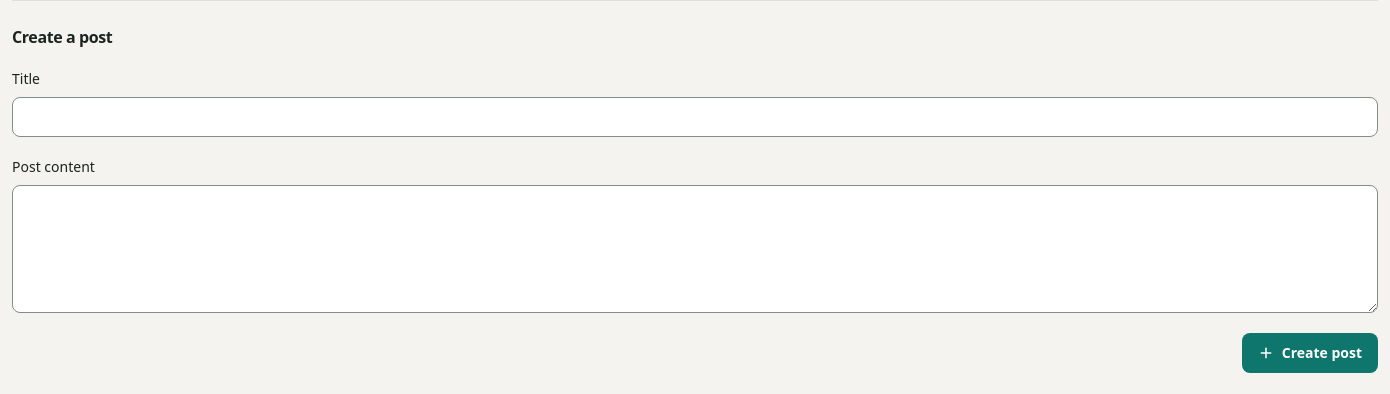
Test case: CreatePostSection › shows success feedback and clears the form after creating a post
Type "Feedback post" into the field labelled "Title" at (695, 117), box [12,97,1378,137]
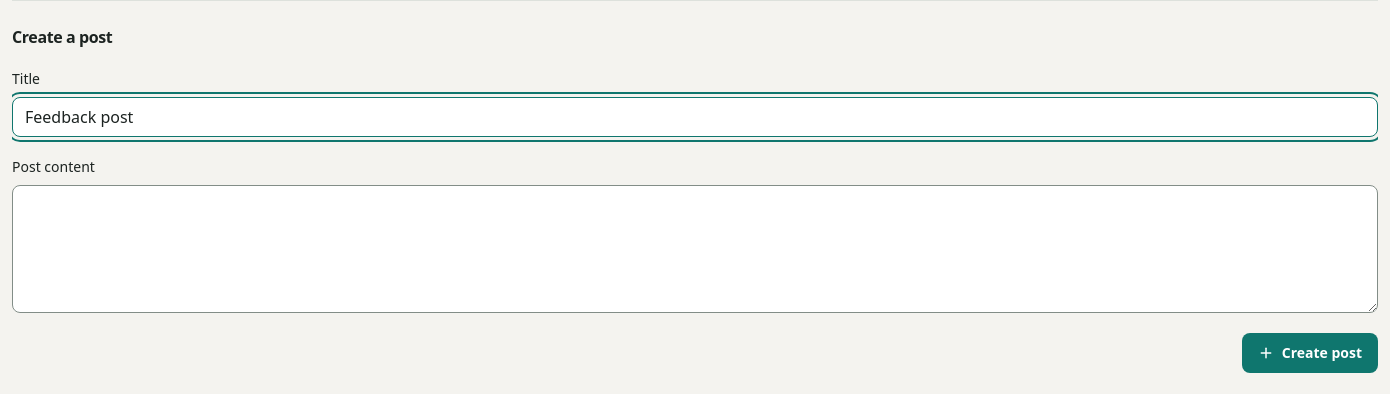
Type "Body" into the text box labelled "Post content" at (695, 249), box [12,185,1378,313]
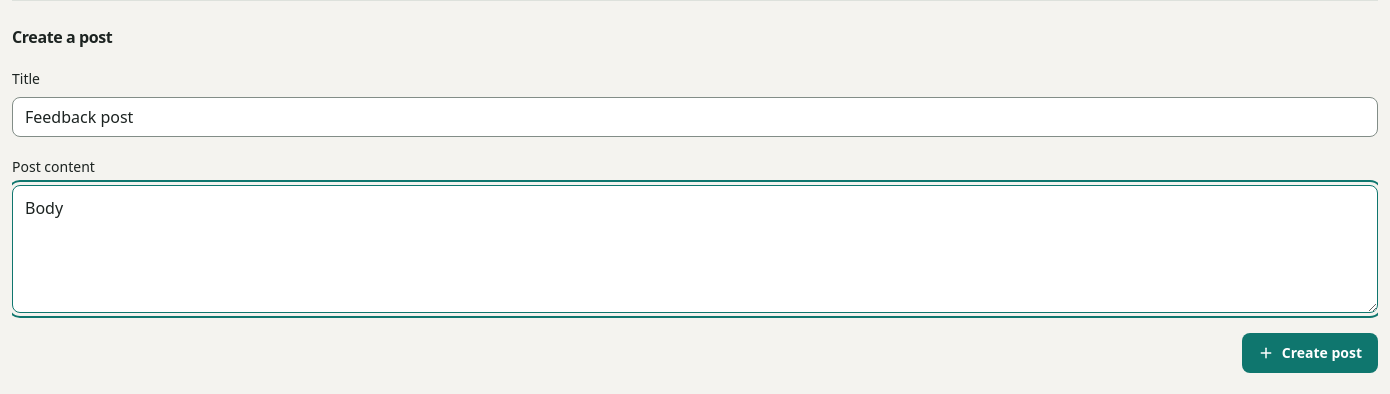
Click the button "Create post" at (1310, 353), box [1242,333,1378,373]
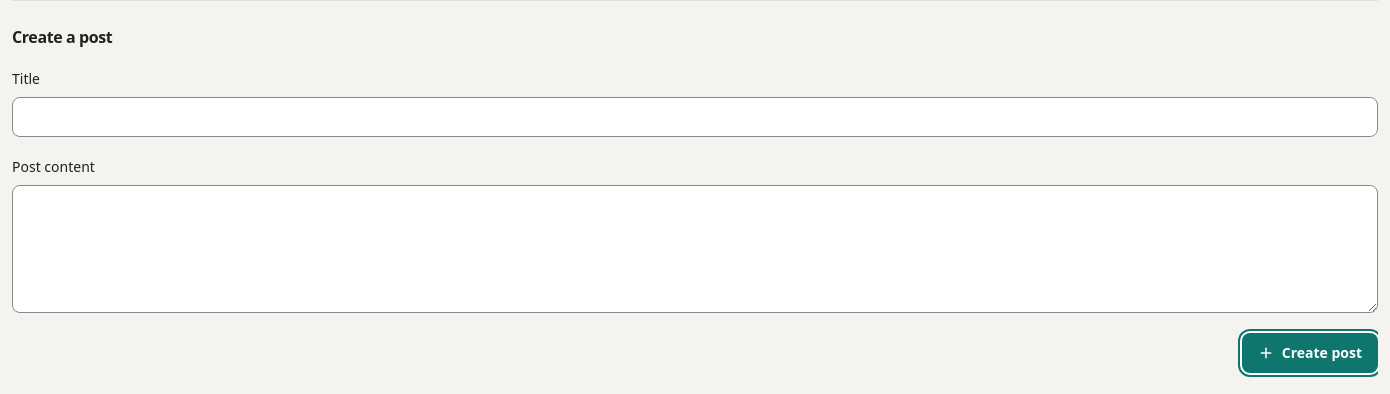
Now the field labelled "Title" is empty, box [12,97,1378,137]
